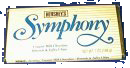grozi_76: (3, 2, 127, 63)
